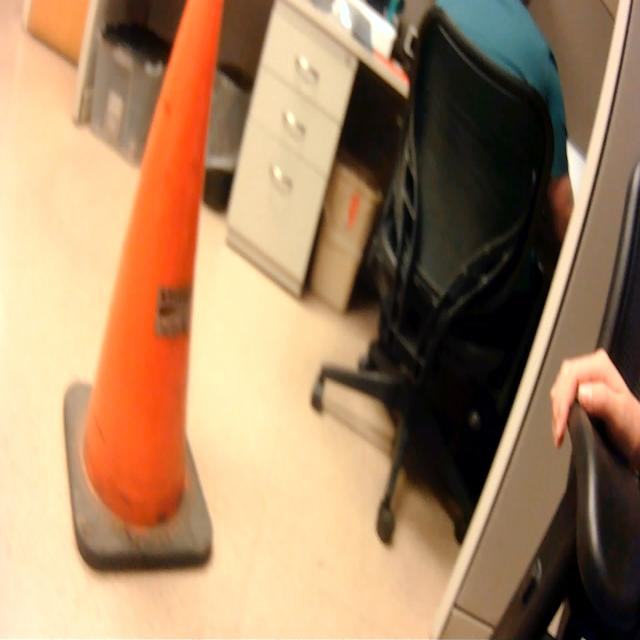traffic cone: (59, 2, 231, 583)
